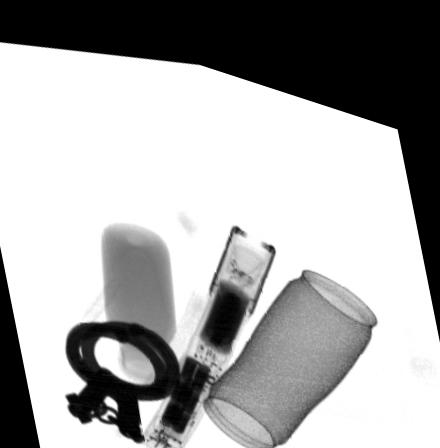Baton: (139, 207, 278, 448)
HandCuffs: (63, 311, 181, 435)
